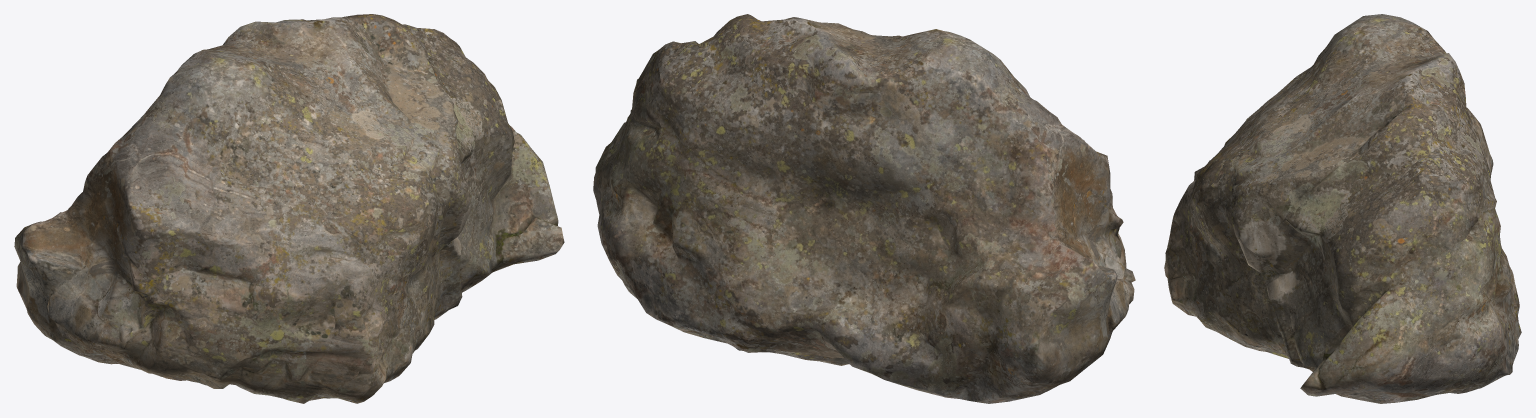
File: SM_wgxiaci_tier_2.gltf
3 views of the same model, side by side, from view 1: azimuth 30°, elevation 25°; view 2: azimuth 150°, elevation 25°; view 3: azimuth 270°, elevation 25° (orthographic). The views are drawn at different scales.
Parts seen in each view (by area): view 1: wgxiaci_LOD2_TIER2_000; view 2: wgxiaci_LOD2_TIER2_000; view 3: wgxiaci_LOD2_TIER2_000.
Part boxes in pixels (x1=…): wgxiaci_LOD2_TIER2_000: x1=14, y1=14, x2=564, y2=403; wgxiaci_LOD2_TIER2_000: x1=593, y1=14, x2=1135, y2=403; wgxiaci_LOD2_TIER2_000: x1=1164, y1=14, x2=1521, y2=403.
Size of the model in its own units: 1.57 by 0.9353 by 0.9968.
1 material, 1 textured.
